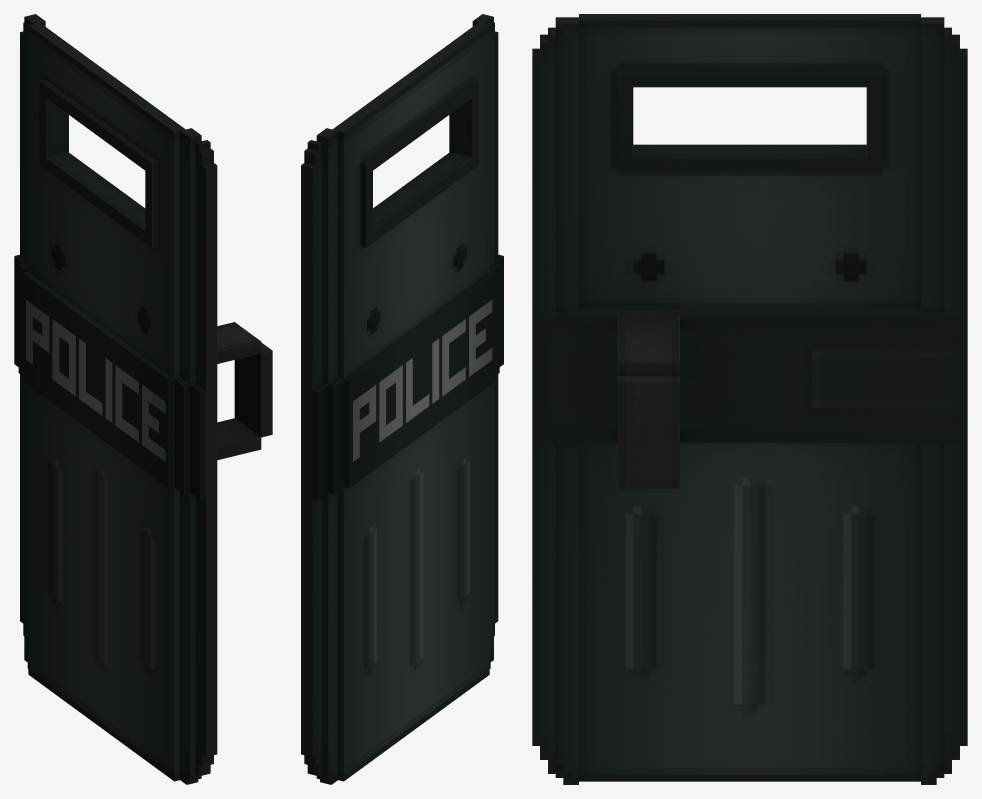
File: RD_SHIELD.glb
3 views of the same model, side by side, from view 1: azimuth 30°, elevation 25°; view 2: azimuth 150°, elevation 25°; view 3: azimuth 270°, elevation 25° (orthographic). The views are drawn at different scales.
Visible parts, largest first — view 1: RD_SHIELD; view 2: RD_SHIELD; view 3: RD_SHIELD.
Boxes of the visible parts, x1,y1,x2,y2 form: RD_SHIELD: (14,14,272,784); RD_SHIELD: (301,14,503,784); RD_SHIELD: (532,14,967,784).
Bounding box in the file's own units: 0.3761 × 1.93 × 1.
Materials: 1 (1 with a texture image).
